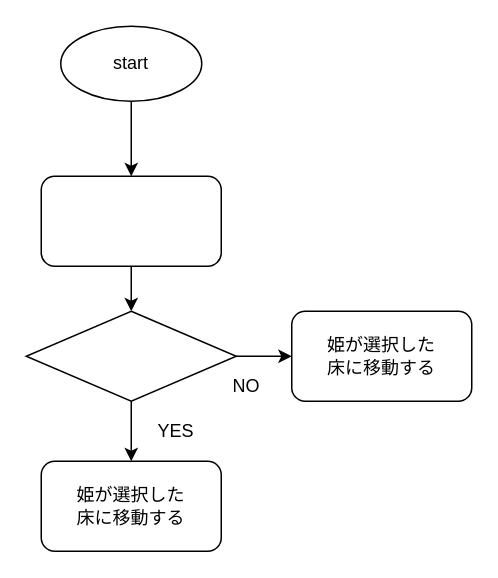
The diagram is 498 pixels wide and 578 high, and some of its shapes have lost their labels. Here are the shapes that lost their labels. From the top down, the centre of each, then its label:
At pixel 130 220: "床選択ボタンを押す".
At pixel 130 355: "床が選択されているか".
